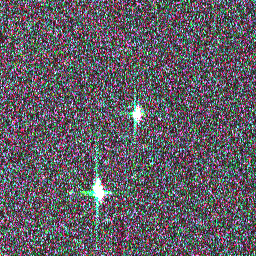ship: (90, 175, 107, 203), (131, 106, 144, 123)
